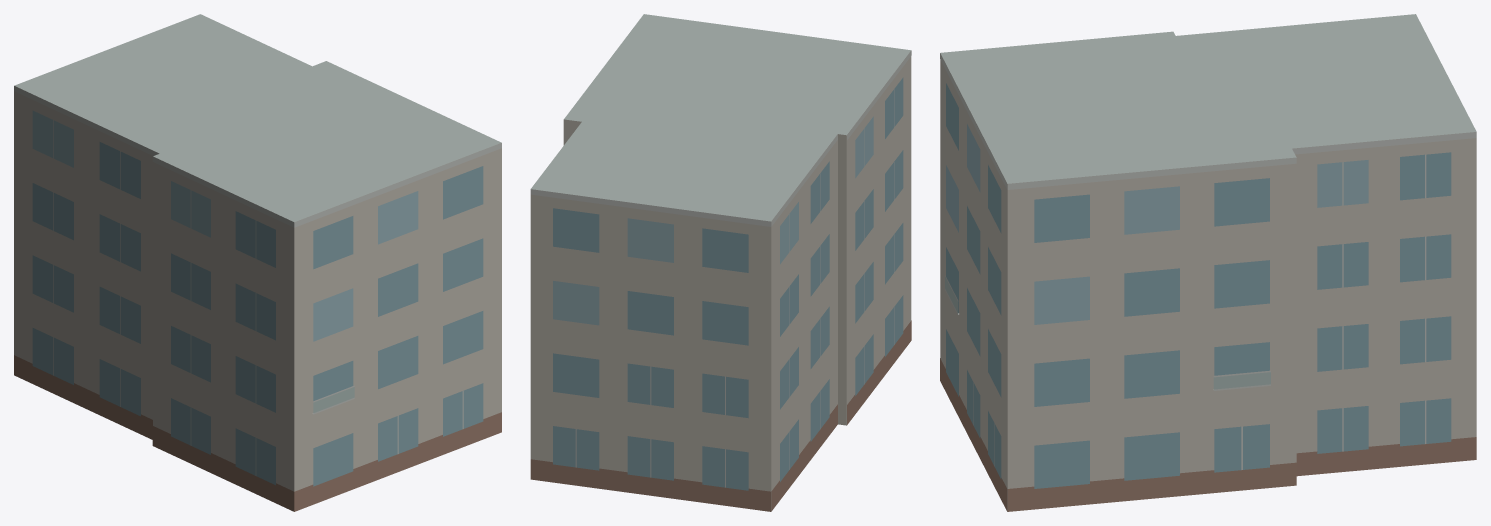
File: survey-upis-33020234.glb
3 renders of one model, left to right at view 1: azimuth 30°, elevation 25°; view 2: azimuth 150°, elevation 25°; view 3: azimuth 270°, elevation 25°, orthographic. The views are drawn at different scales.
Visible parts, largest first — view 1: survey-upis-33020234.tmp; view 2: survey-upis-33020234.tmp; view 3: survey-upis-33020234.tmp.
Boxes of the visible parts, bbox=[...] form: survey-upis-33020234.tmp: bbox=[14, 14, 501, 511]; survey-upis-33020234.tmp: bbox=[530, 14, 911, 511]; survey-upis-33020234.tmp: bbox=[940, 14, 1476, 511].
Size of the model in its own units: 14.34 by 12.9 by 19.13.
